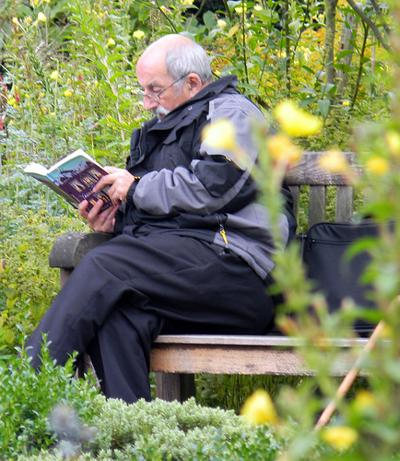person: (18, 33, 289, 404)
